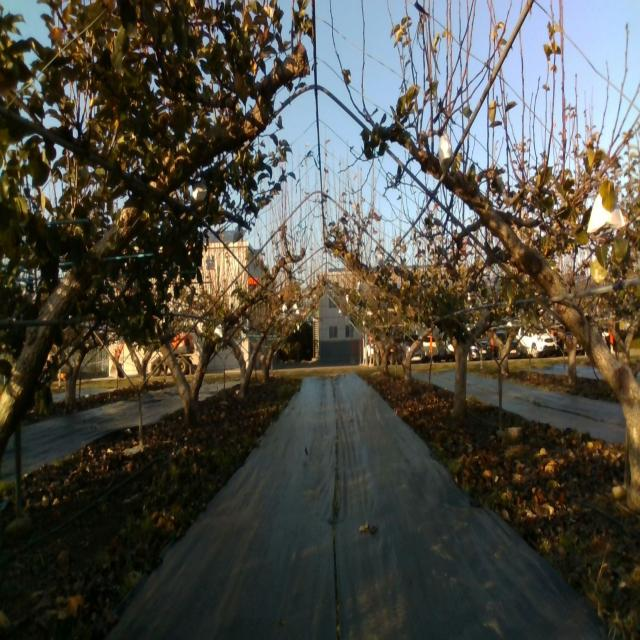pearbags: (586, 193, 626, 235), (439, 134, 452, 176), (190, 177, 208, 202)
